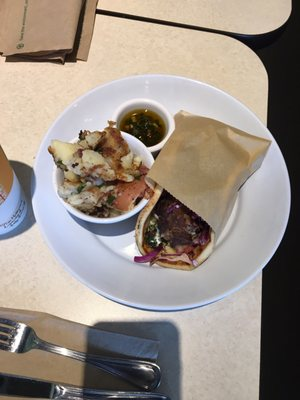soup: (134, 112, 268, 271)
sushi: (50, 123, 158, 225), (112, 98, 175, 156)
